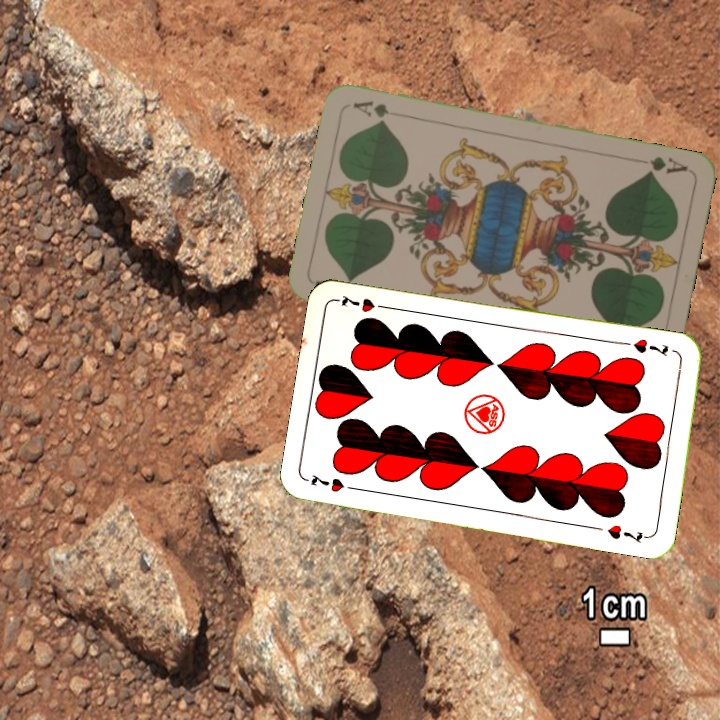GA: (633, 152, 690, 178)
H7: (307, 470, 363, 495), (620, 334, 671, 359)
